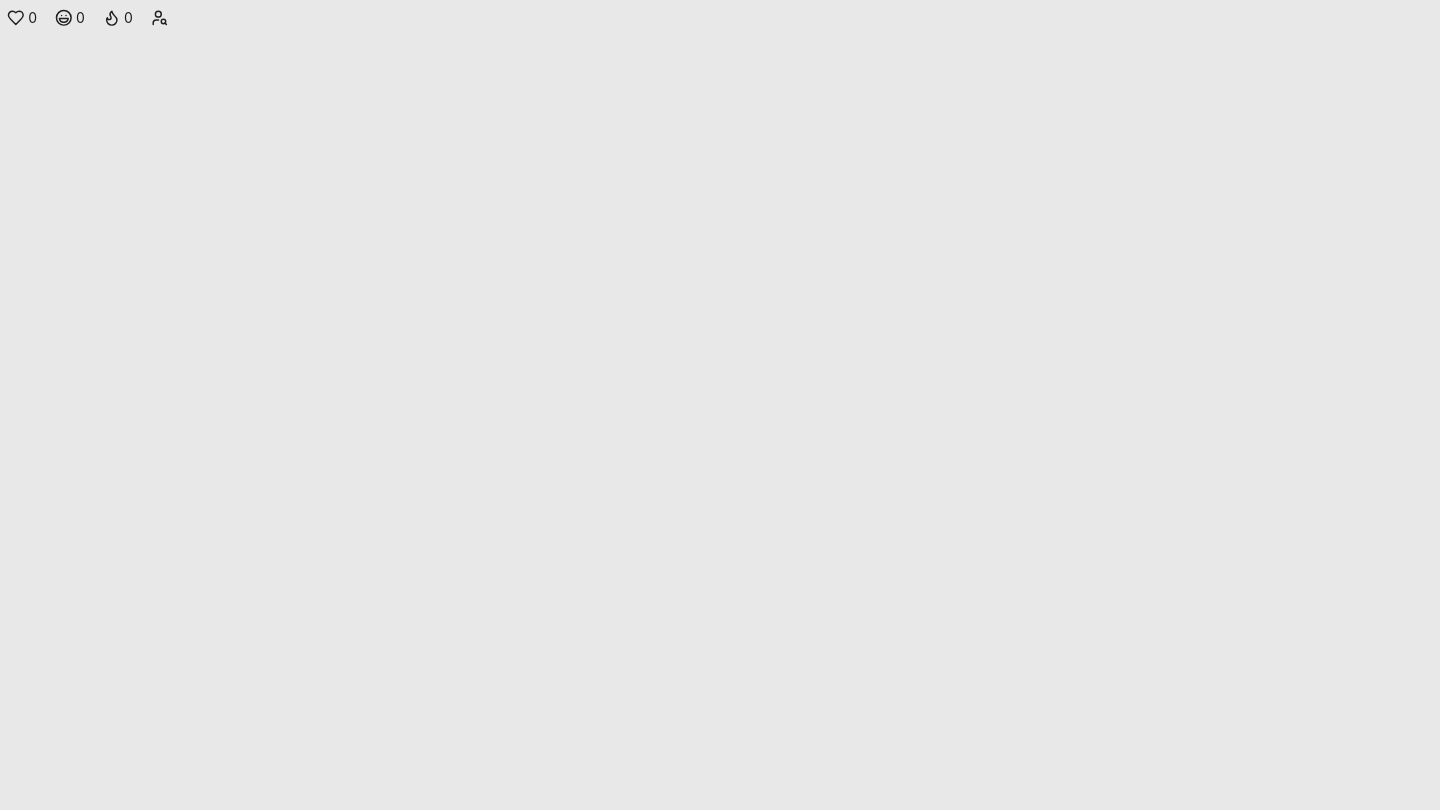
Test: ReactionBar (interaction) › refreshes the who-reacted list after reacting so the user sees themselves
Note: Initially: open the dialog — no reactions yet.
Click the button named "pokaż kto zareagował": (160, 18) [140, 0, 179, 35]
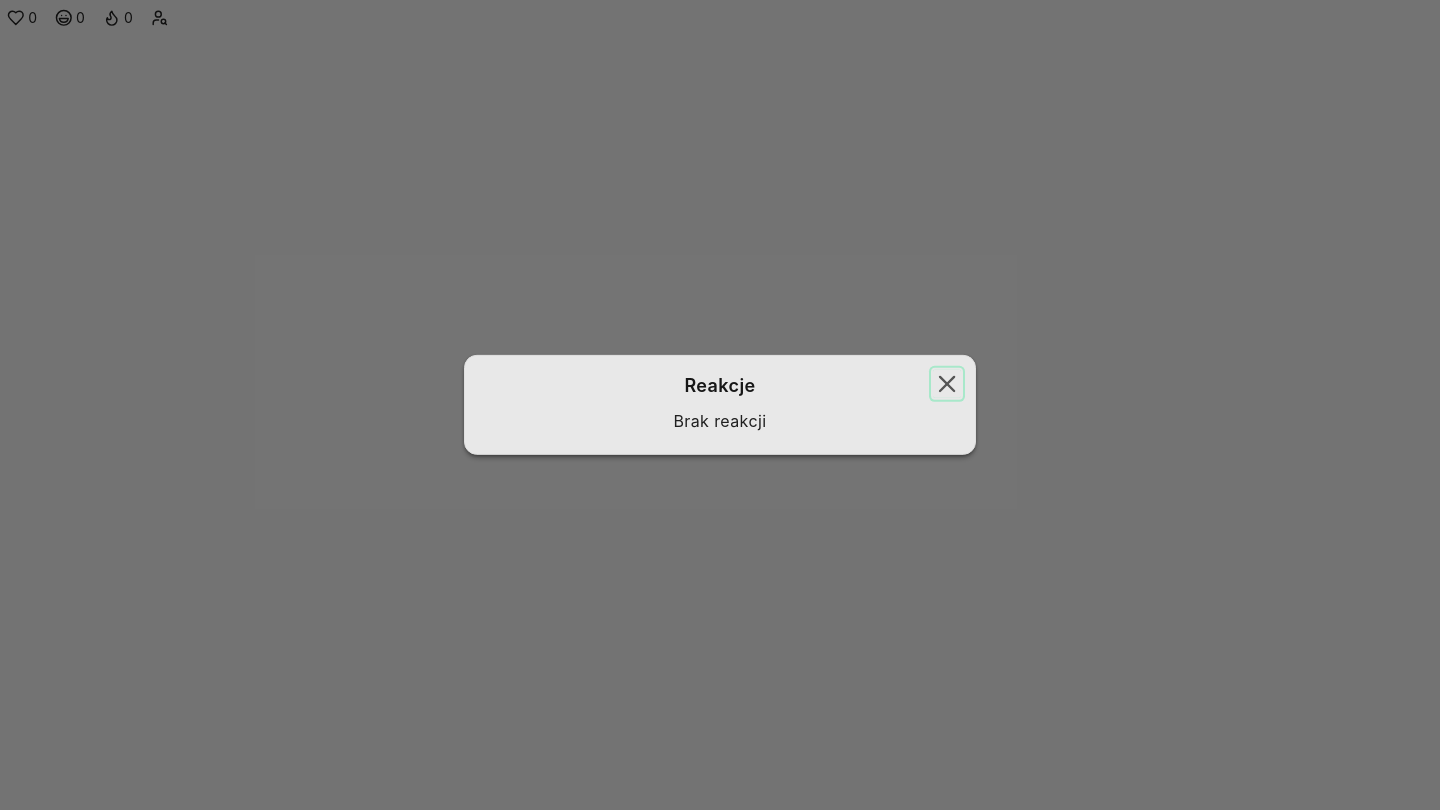
Expected: the text "Brak reakcji" is shown, [673, 411, 766, 431]
Press Escape
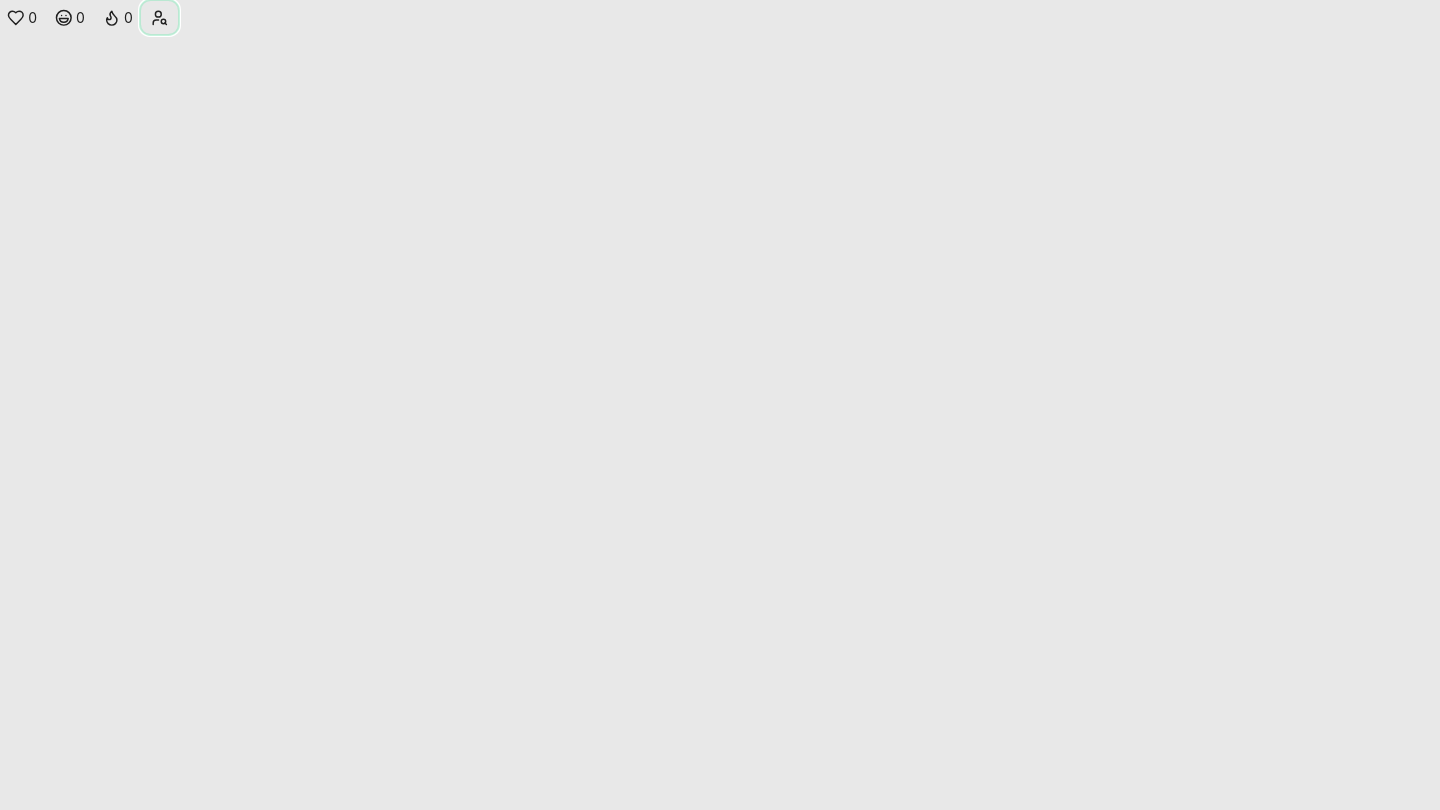
Note: React via the bar.
Click the button named "serce": (22, 18) [0, 4, 44, 31]
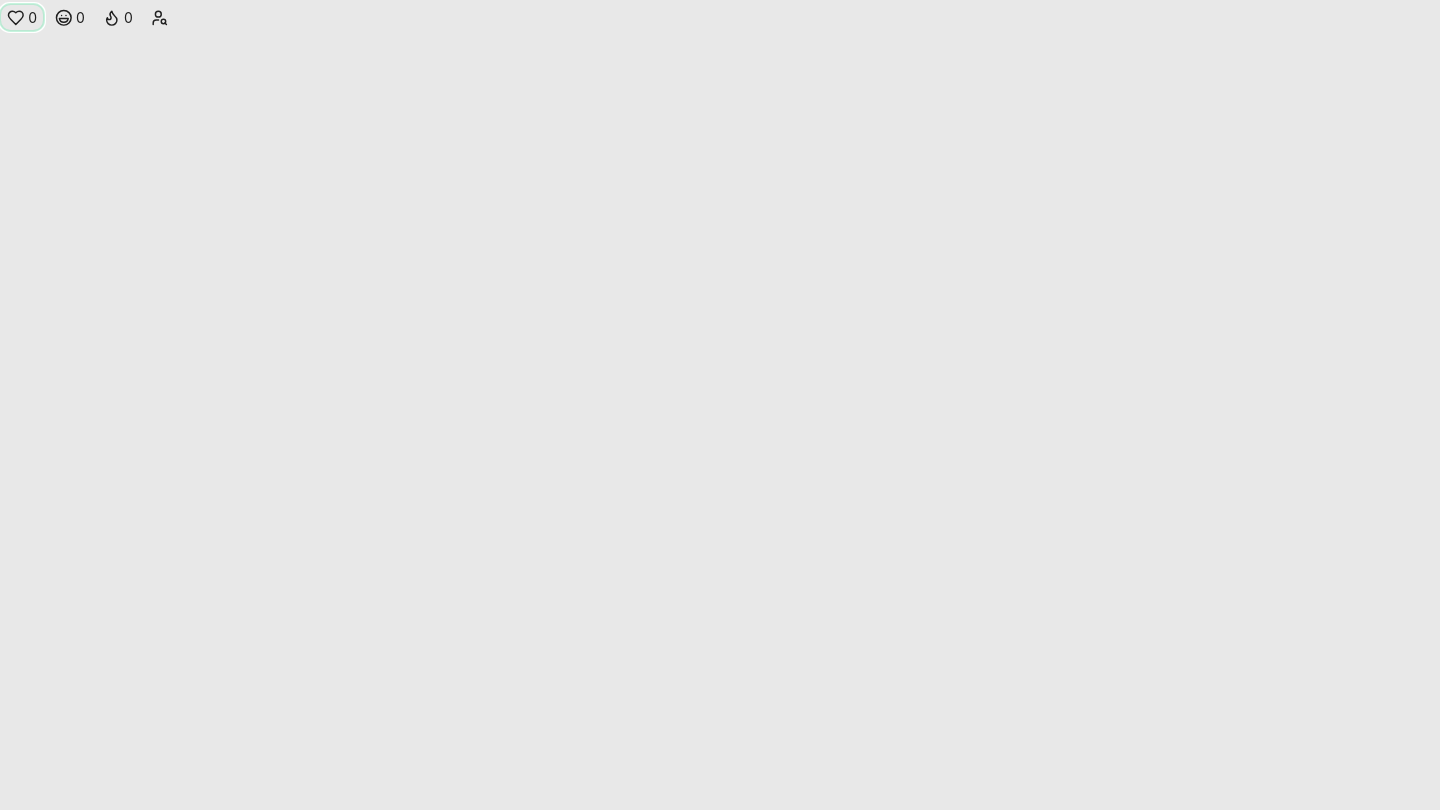
Note: Reopen — own reaction now appears (users query was invalidated + refetched).
Click the button named "pokaż kto zareagował": (160, 18) [140, 0, 179, 35]
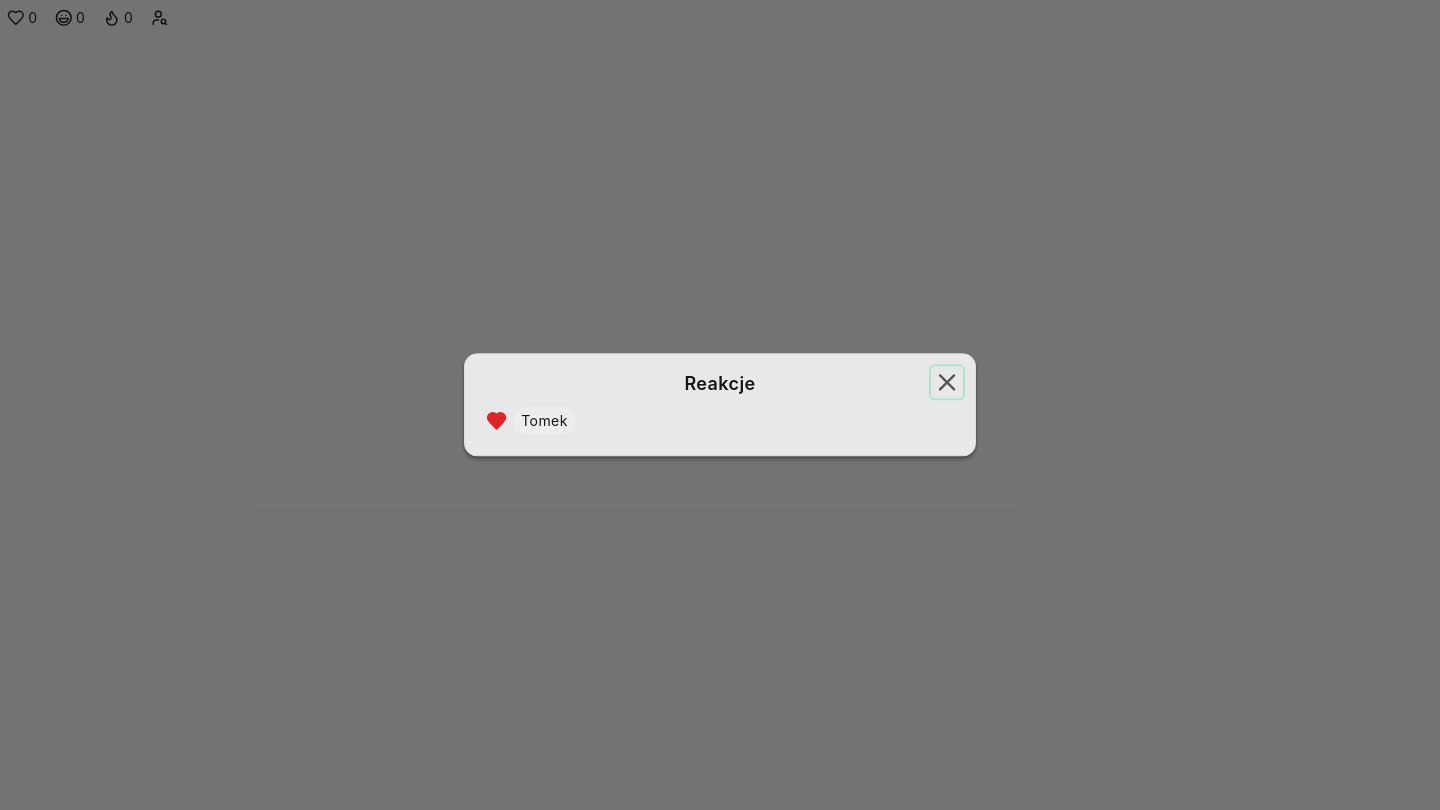
Expected: the text "Tomek" is shown, [514, 408, 575, 434]
